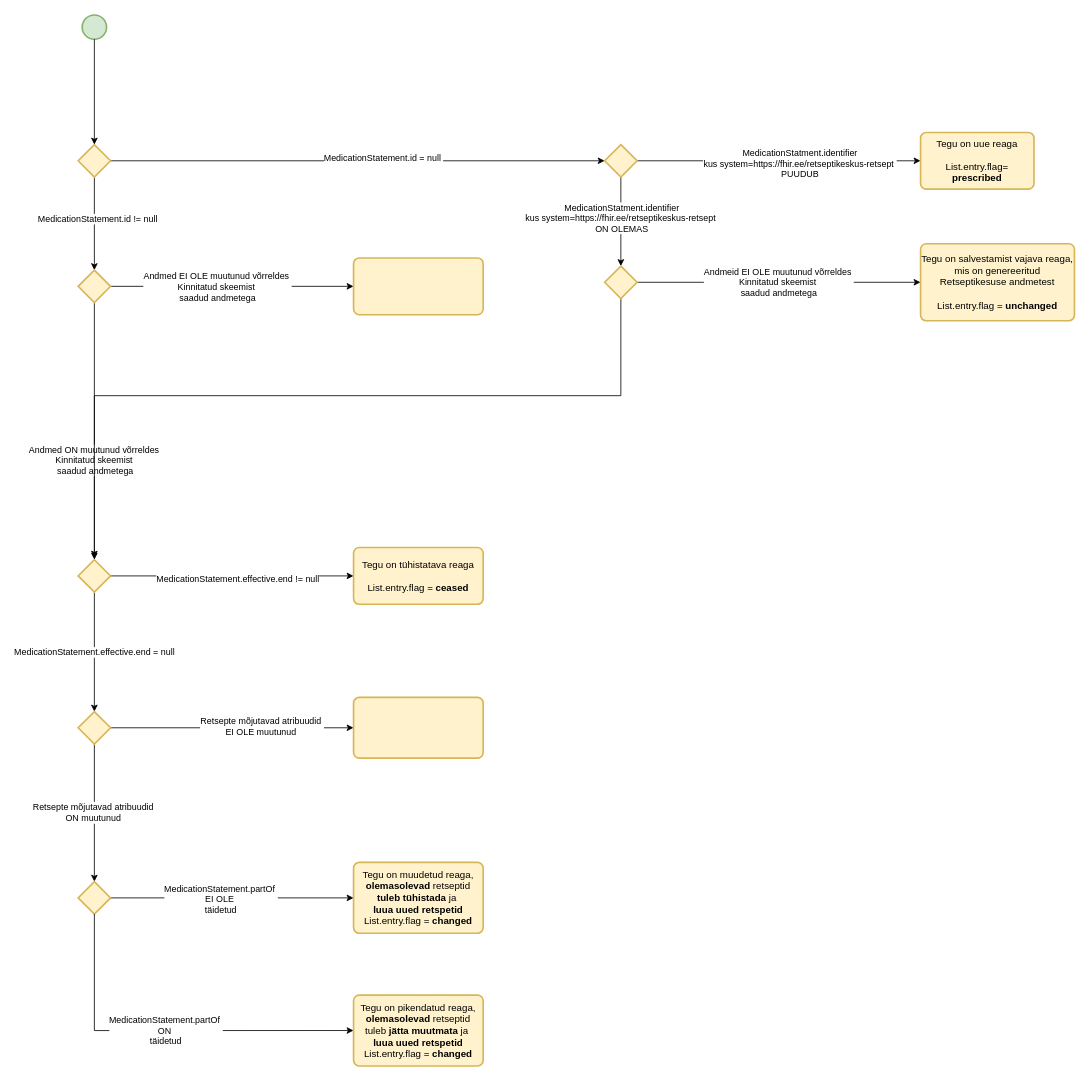
This 1089x1085 diagram has some shape labels left out. The shapes that lost their labels are listed below. From the top down, each one's centre as x and y in pixels, then its label:
point 418,286: Tegu on muutmata reaga List.entry.flag = unchanged
point 418,727: Tegu on muudetud reaga, retsepte ei ole vaja muuta List.entry.flag = changed
